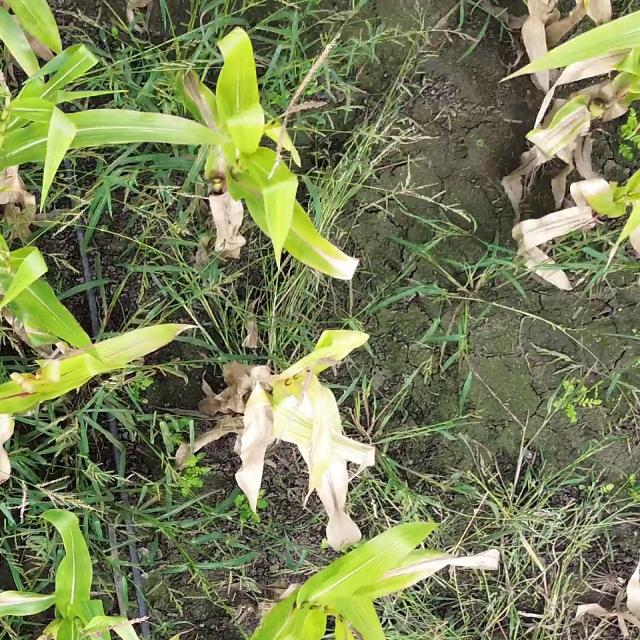northern-leaf-blight: (0, 333, 154, 403)
